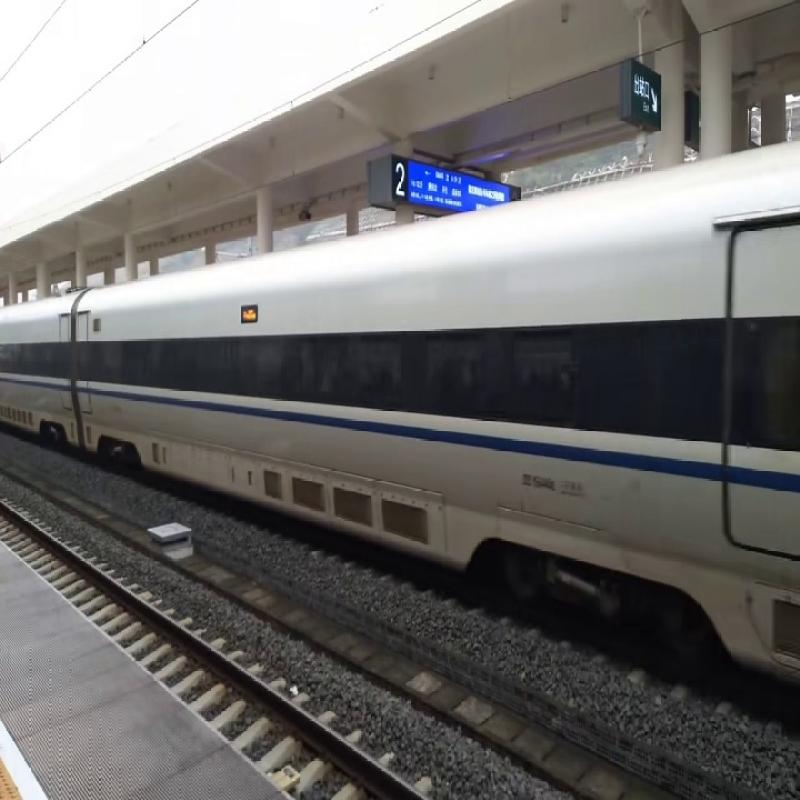train: (80, 275, 552, 549)
